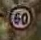limite 60: (7, 5, 33, 29)
